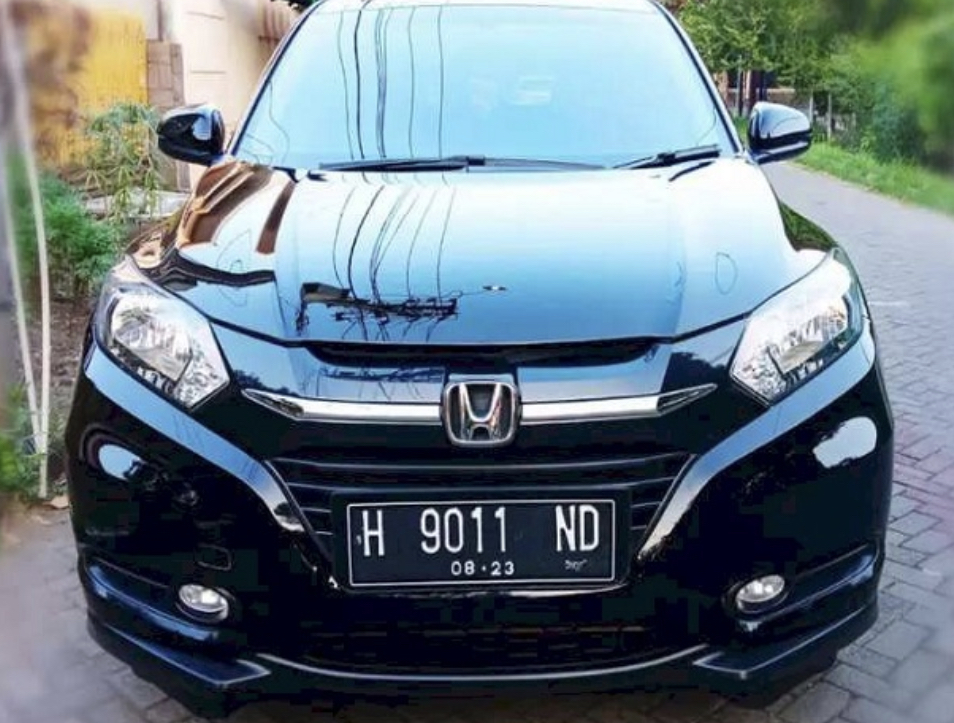mobil: (37, 1, 918, 714)
plat: (334, 491, 631, 601)
